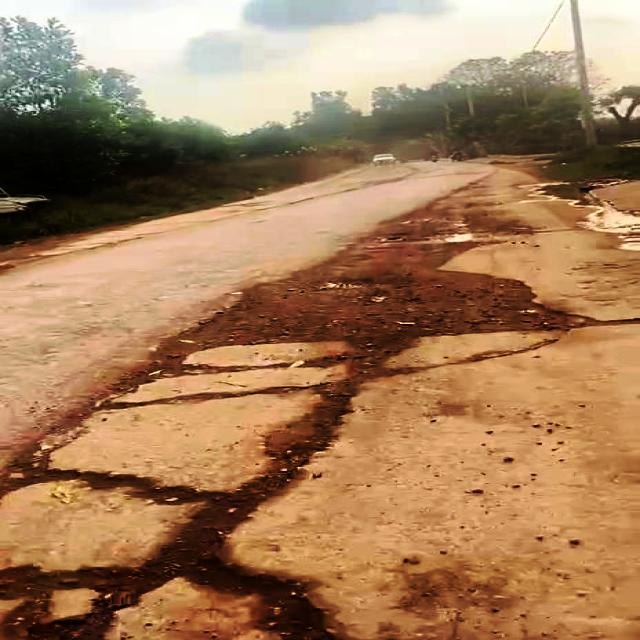pothole: (0, 352, 400, 517), (0, 531, 339, 639)
